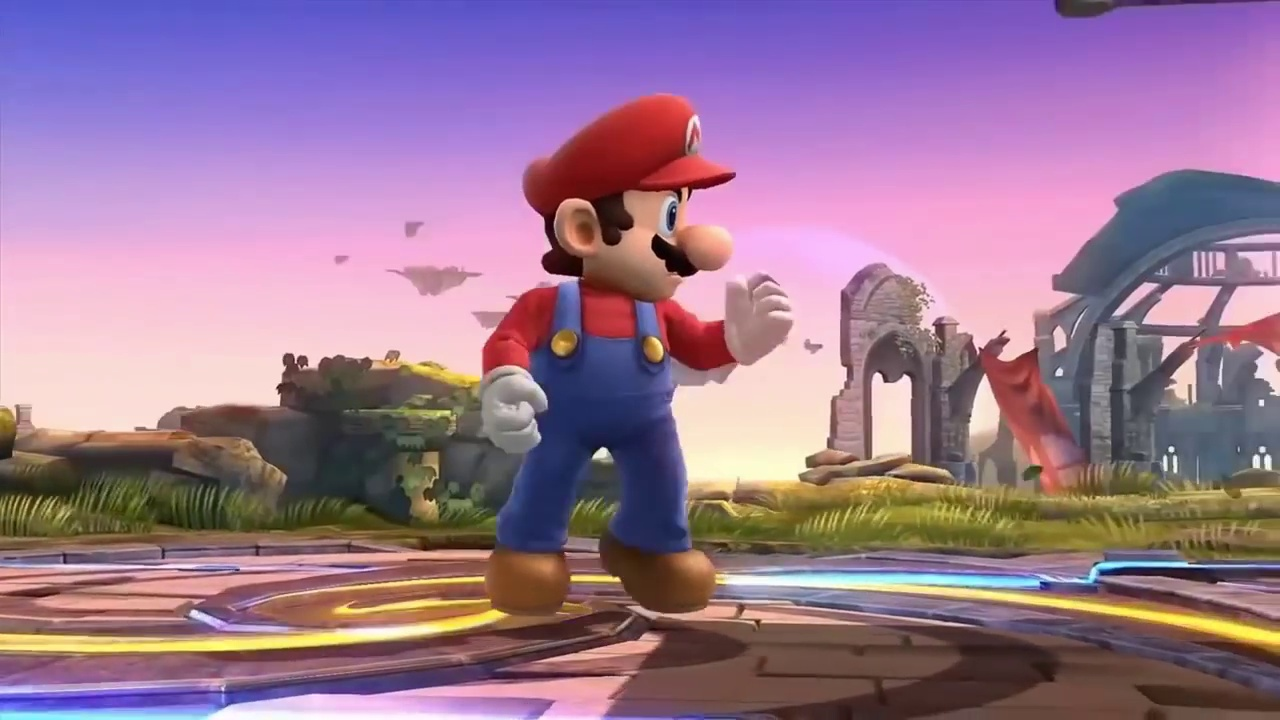Mario: (482, 93, 793, 613)
